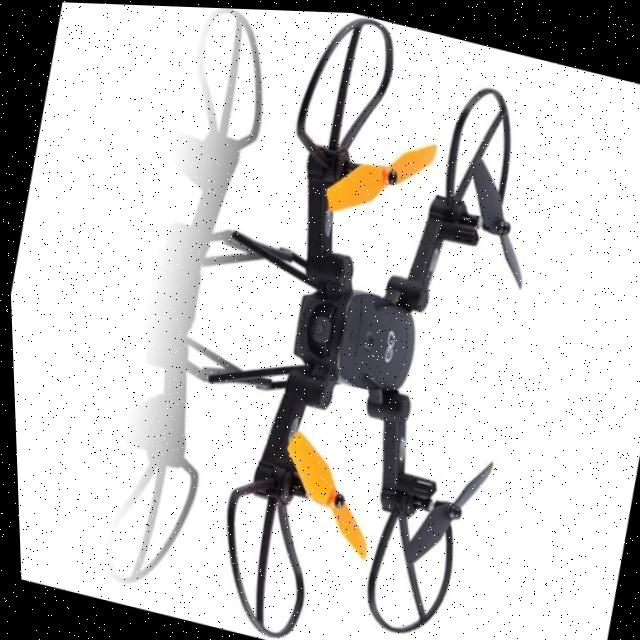drones: (103, 3, 600, 640)
